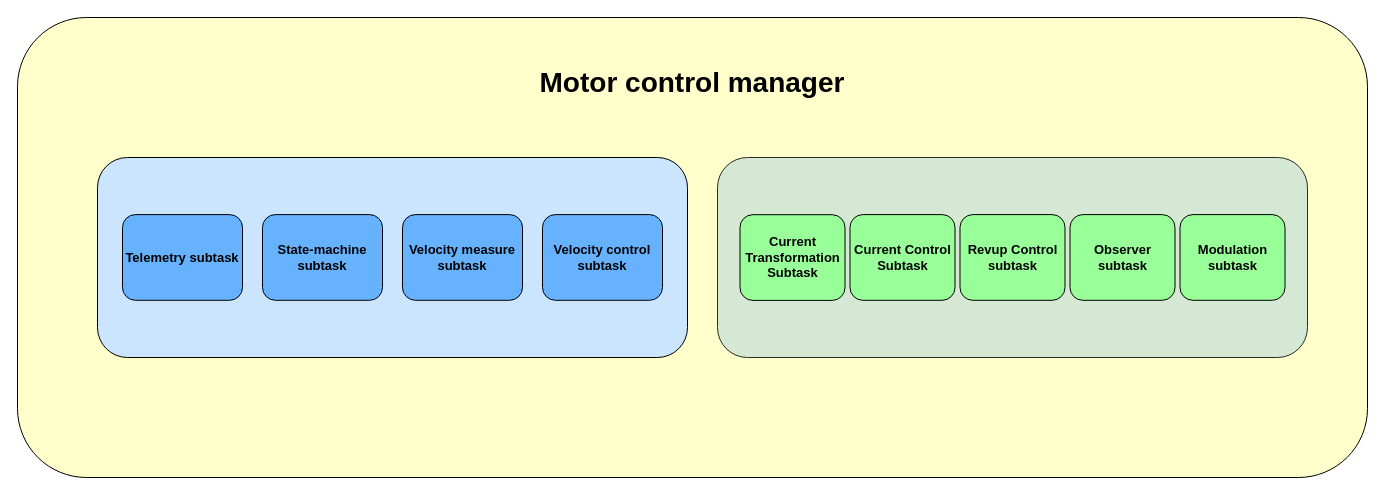
Some shapes in this 1385 by 495 pixel diagram are drawn without their labels. Here are the shapes that lost their labels. From the top down, the box of each, then its label:
(96, 156, 688, 358): Motor control task 1
(716, 156, 1308, 358): Motor control task 2
